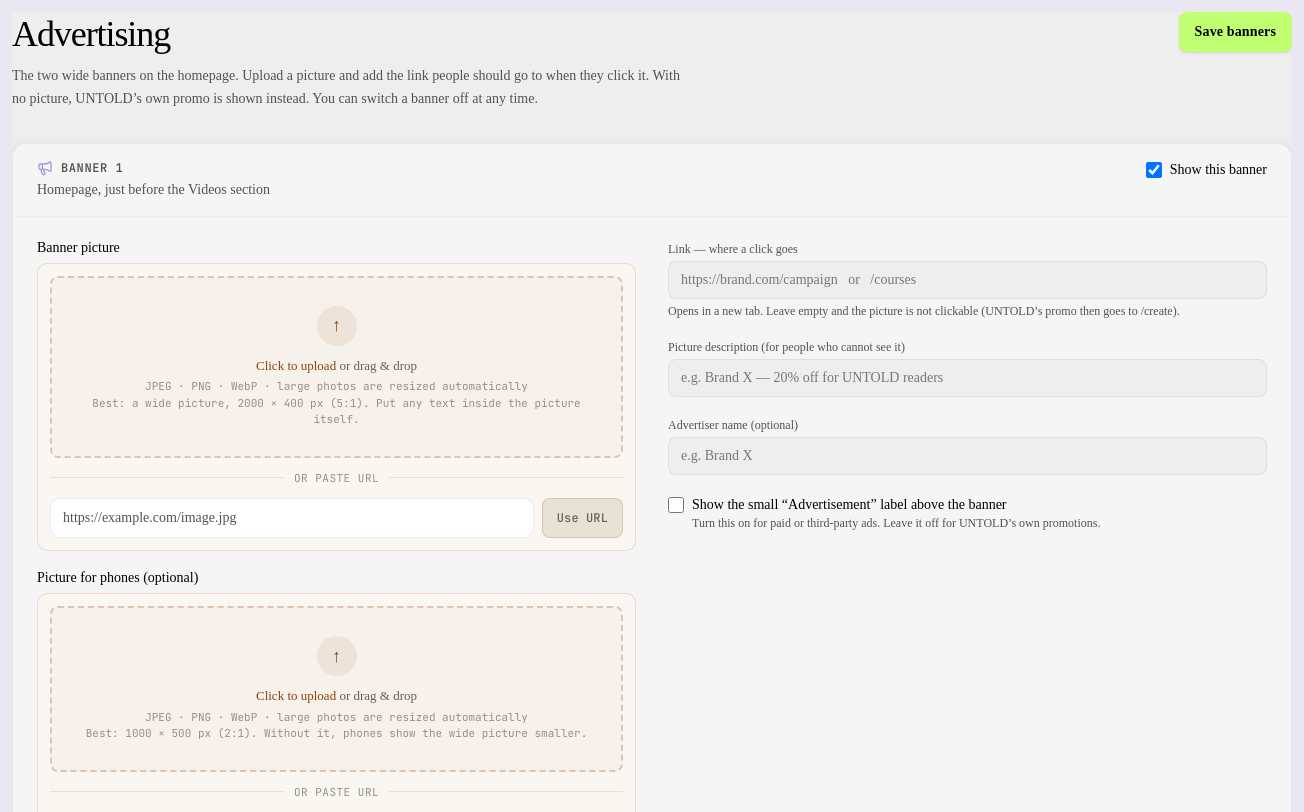
it: BannersForm (Admin → Advertising) › warns about a link that is not a web address or a page of the site
Type "javascript:alert(1)" into the field labelled "Link — where a click goes".
click(968, 280); type("javascript:alert(1)")  # box [668, 260, 1267, 298]
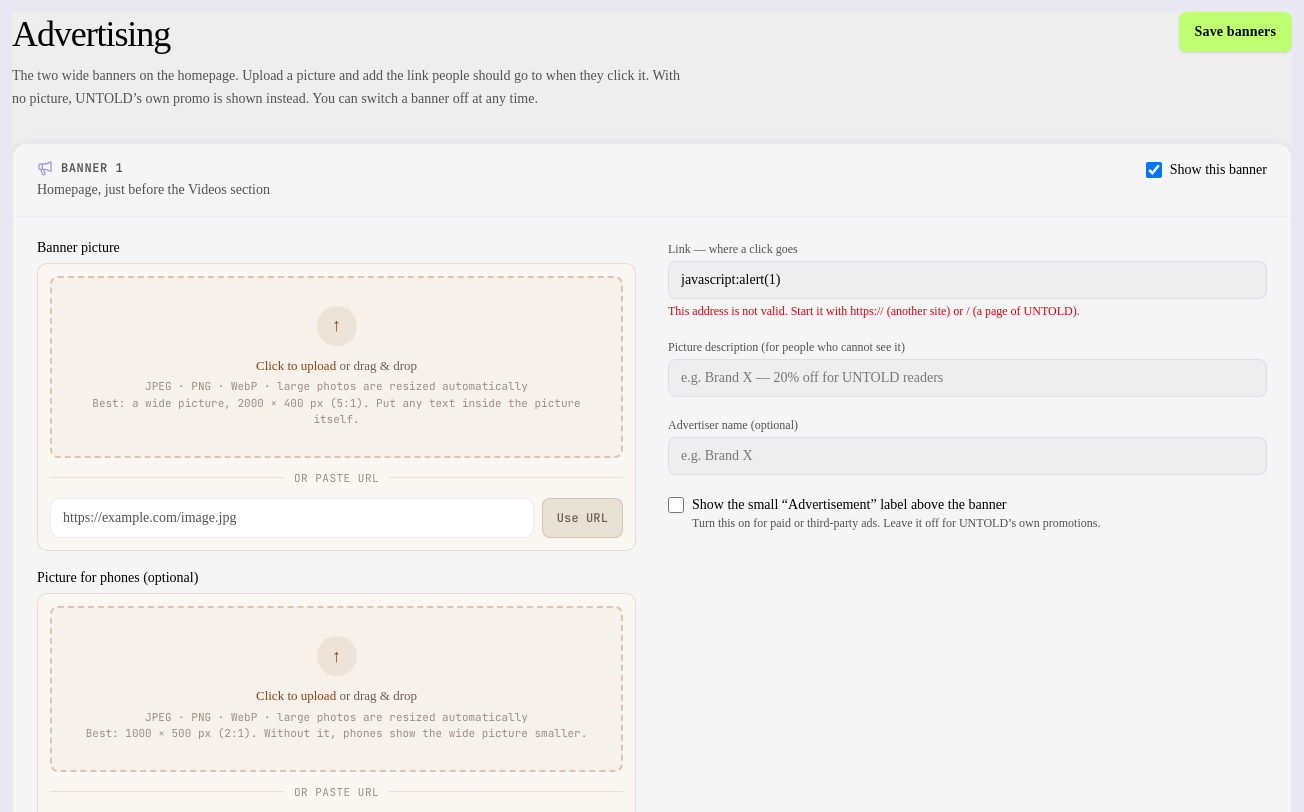
Check: the text "This address is not valid" is shown, box [668, 304, 1080, 318]
